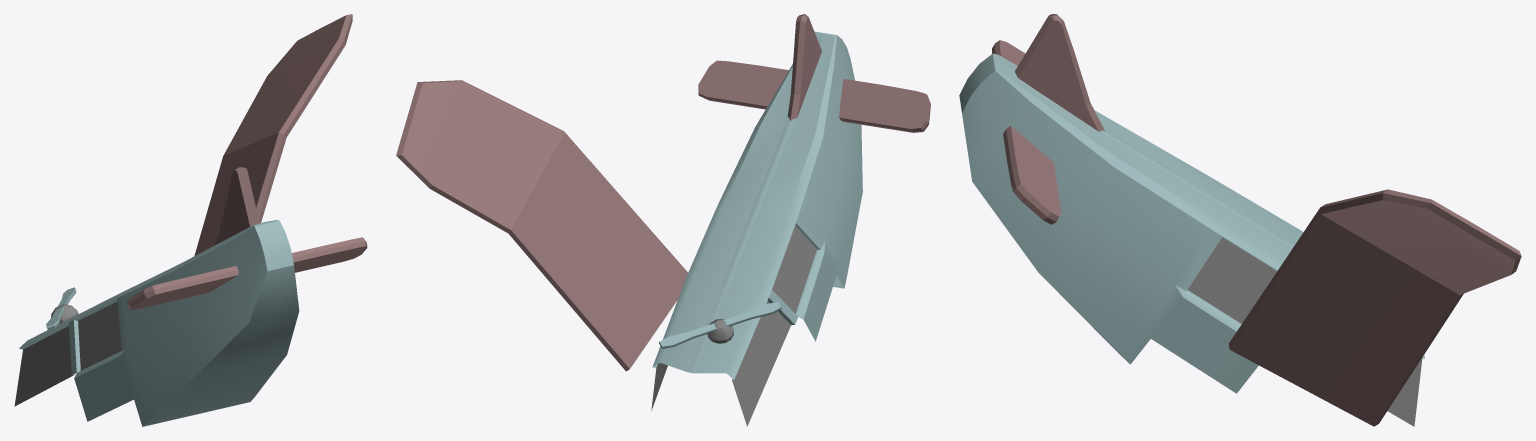
The model's file is PlaneCrash_01 1.fbx.
3 renders of one model, left to right at view 1: azimuth 30°, elevation 25°; view 2: azimuth 150°, elevation 25°; view 3: azimuth 270°, elevation 25°, orthographic. The views are drawn at different scales.
Parts seen in each view (by area): view 1: pCube115, pCube116, pCube117, pCube118, pCube119; view 2: pCube115, pCube116, pCube117, pCube118, pCube119; view 3: pCube115, pCube116, pCube118, pCube117.
Part boxes in pixels (x1,y1,x2,y2): pCube115: (14, 220, 299, 426); pCube116: (194, 14, 352, 255); pCube117: (127, 237, 367, 310); pCube118: (214, 167, 259, 245); pCube119: (46, 287, 76, 329); pCube115: (651, 31, 862, 426); pCube116: (396, 80, 687, 371); pCube117: (698, 60, 930, 132); pCube118: (787, 14, 821, 120); pCube119: (659, 302, 781, 348); pCube115: (959, 53, 1424, 426); pCube116: (1229, 189, 1521, 426); pCube118: (1014, 14, 1104, 131); pCube117: (992, 40, 1061, 224).
Size of the model in its own units: 3.59 by 2.89 by 3.68.
